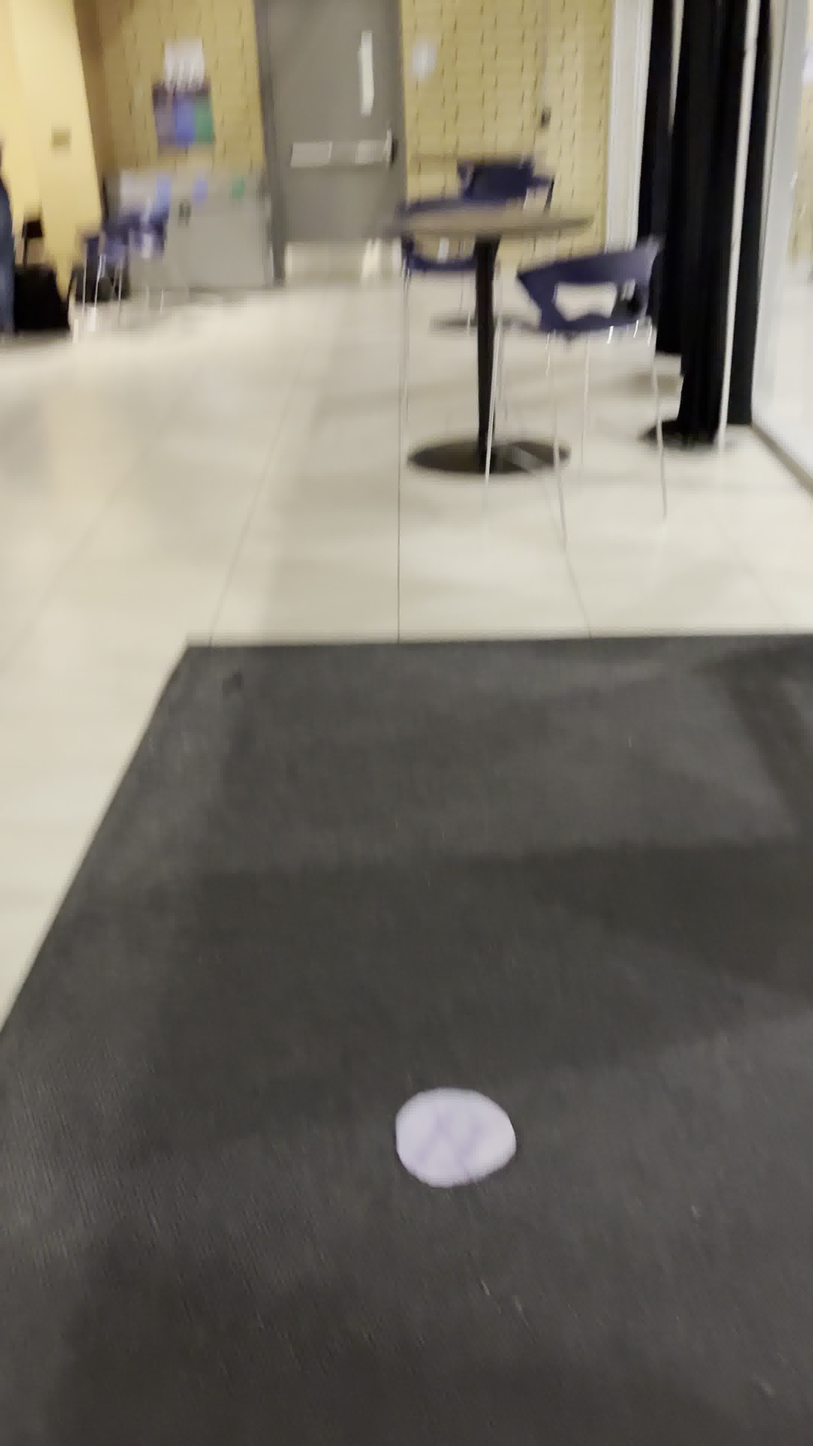Target: (392, 1082, 522, 1193)
